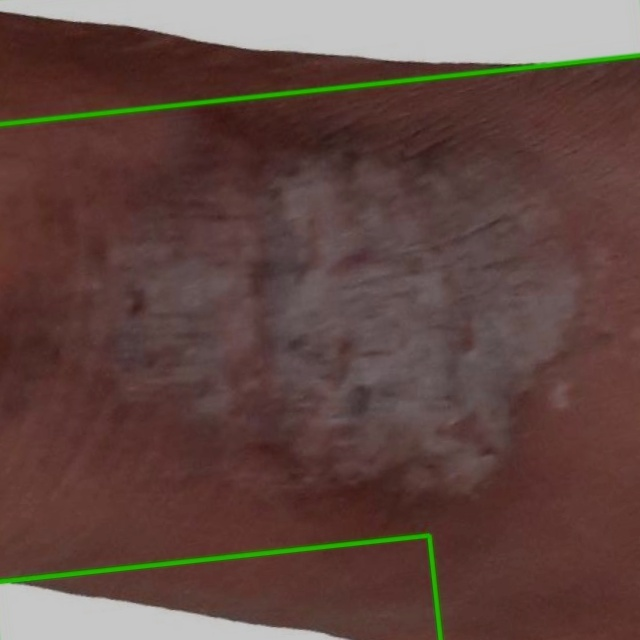Tinea Corporis: (0, 0, 639, 124), (0, 534, 440, 639)
